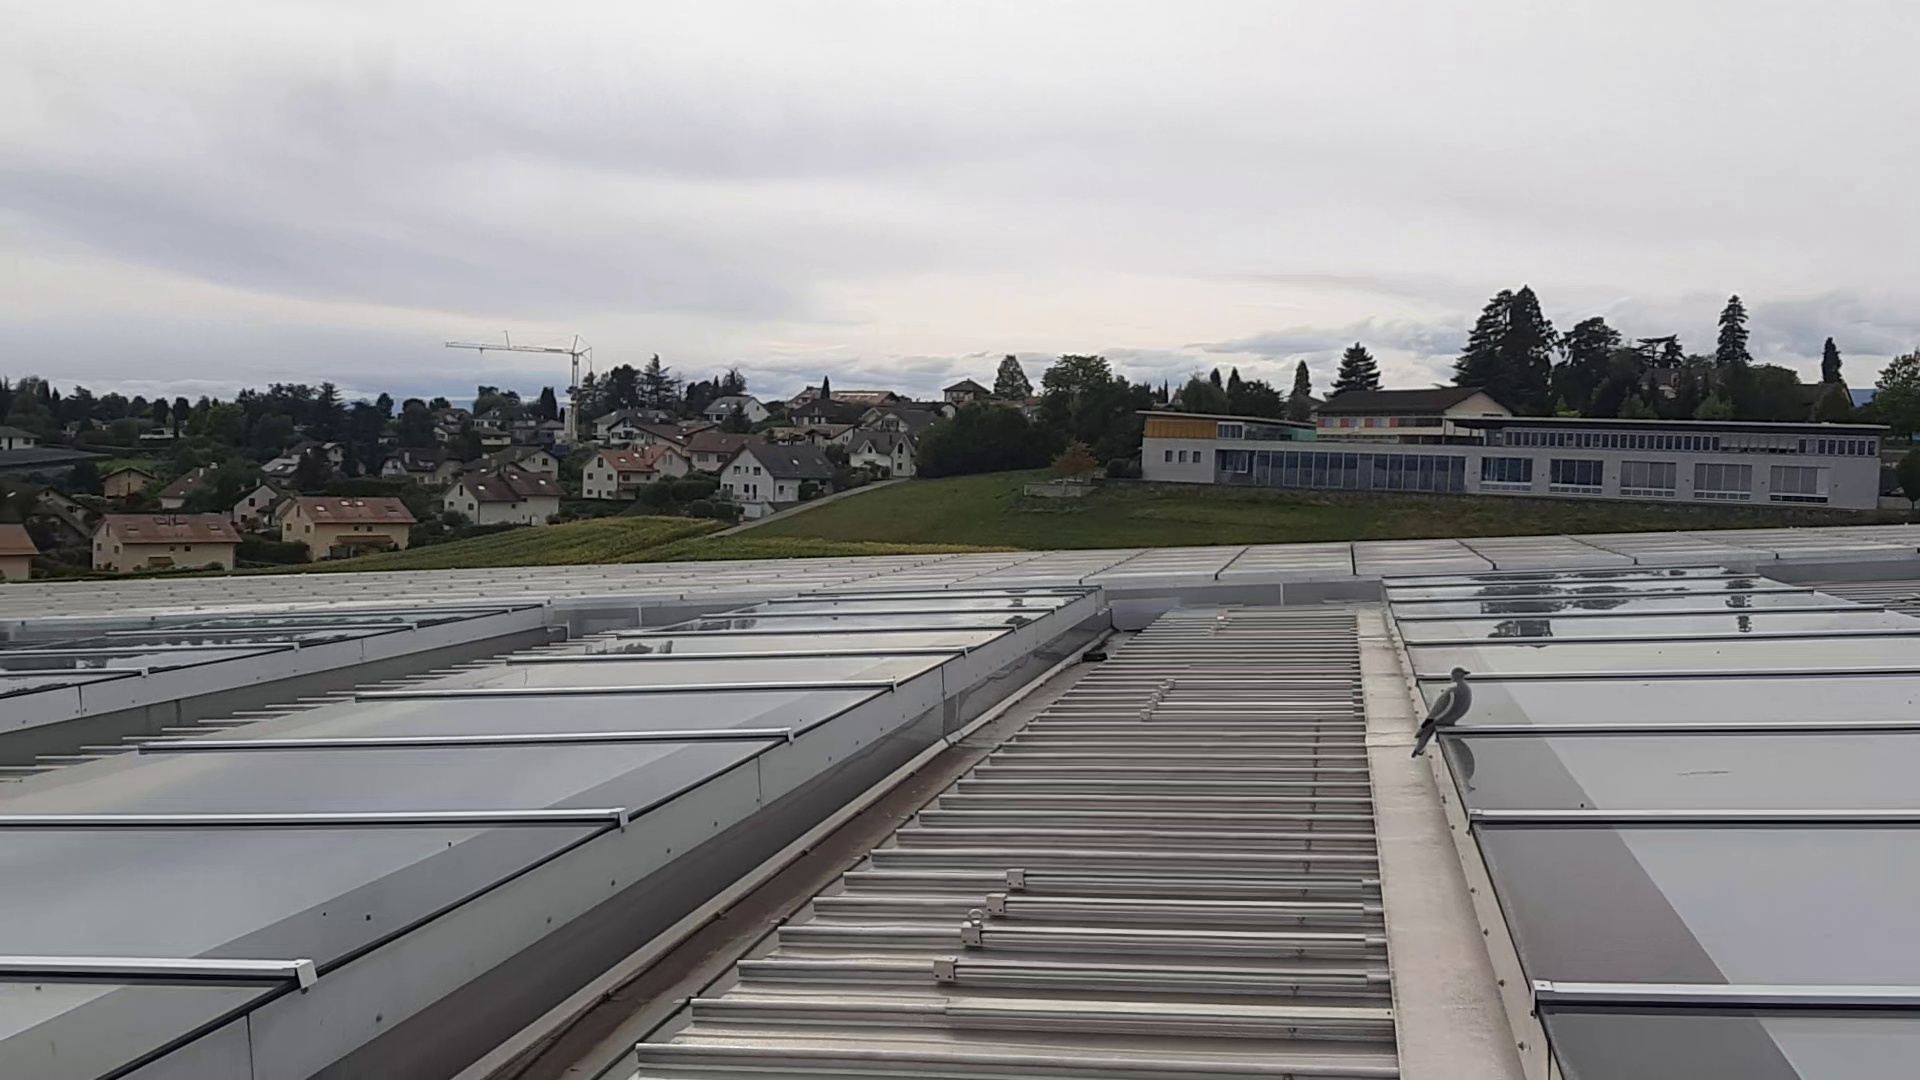Pigeon: (1416, 666, 1482, 749)
